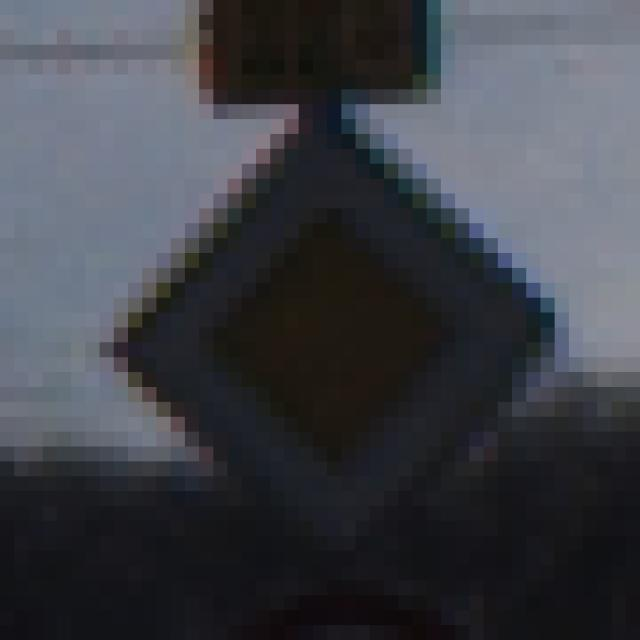Main Road: (86, 90, 570, 567)
